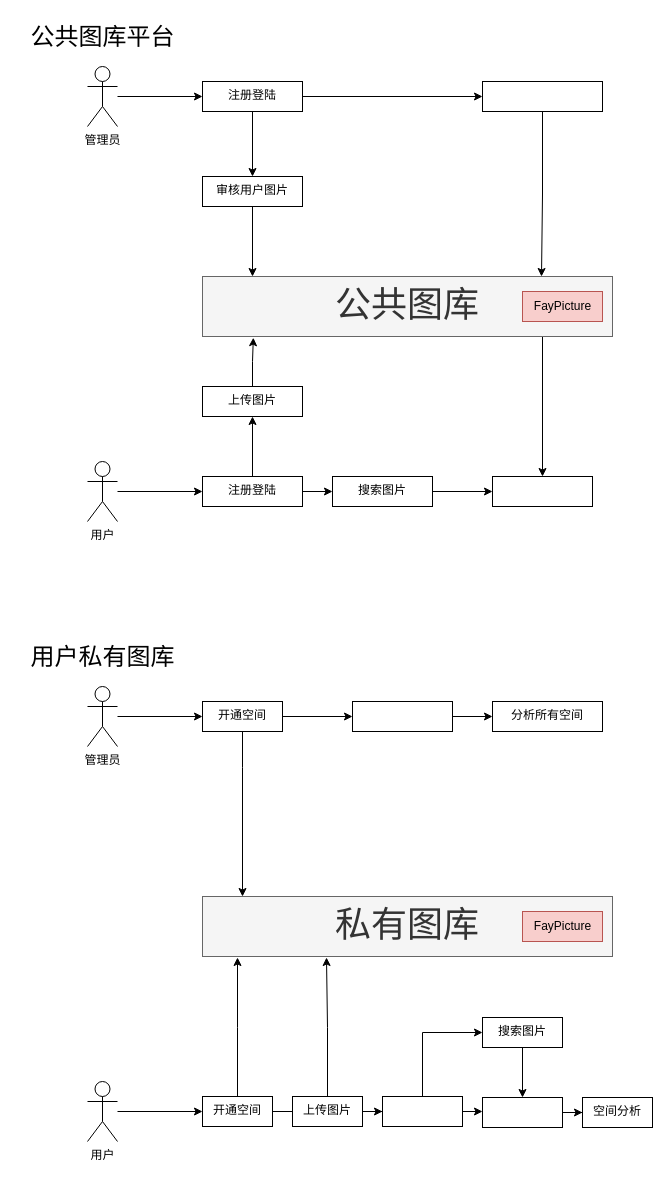
The diagram is 670 pixels wide and 1179 high, and some of its shapes have lost their labels. The centre of each missing label's shape, as x and y in pixels:
上传图片/批量抓取: [542,96]
浏览/下载图片: [542,491]
浏览/分享图片: [522,1112]
管理所有空间: [402,716]
管理编辑图片: [422,1111]
